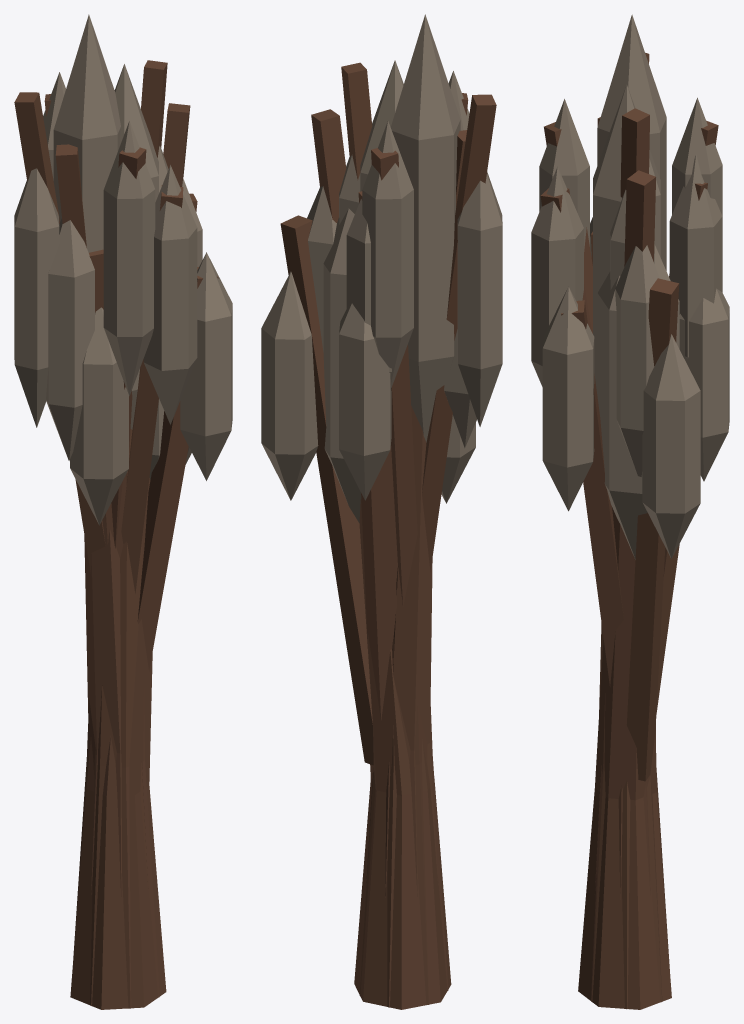
File: tree_poplar_winter.glb
The picture shows the model from 3 angles, left to right: view 1: azimuth 30°, elevation 25°; view 2: azimuth 150°, elevation 25°; view 3: azimuth 270°, elevation 25°; orthographic projection.
Parts seen in each view (by area): view 1: Poplar_upright_trunk.001, Poplar_bare_twigs_canopy.011, Poplar_bare_twigs_canopy.003, Poplar_upright_trunk, Poplar_bare_spire_twigs_canopy.002, Poplar_bare_twigs_canopy.010, Poplar_bare_twigs_canopy.002, Poplar_bare_twigs_canopy.006, Poplar_bare_twigs_canopy.007, Poplar_upright_trunk.002, Poplar_upswept_bough.007, Poplar_upswept_bough.003 (+9 smaller); view 2: Poplar_upright_trunk.001, Poplar_bare_spire_twigs_canopy.002, Poplar_upswept_bough.004, Poplar_bare_twigs_canopy.004, Poplar_bare_twigs_canopy.010, Poplar_bare_twigs_canopy.009, Poplar_upright_trunk.002, Poplar_bare_twigs_canopy.005, Poplar_upswept_bough.010, Poplar_upswept_bough.005, Poplar_upright_trunk, Poplar_upswept_bough.009 (+9 smaller); view 3: Poplar_upright_trunk.001, Poplar_bare_twigs_canopy.004, Poplar_bare_twigs_canopy.007, Poplar_upswept_bough.004, Poplar_bare_twigs_canopy, Poplar_bare_twigs_canopy.003, Poplar_bare_spire_twigs_canopy.001, Poplar_bare_twigs_canopy.001, Poplar_bare_twigs_canopy.005, Poplar_upswept_bough.007, Poplar_bare_spire_twigs_canopy.002, Poplar_bare_spire_twigs_canopy (+9 smaller).
Boxes of the visible parts, bbox=[...] form: Poplar_upright_trunk.001: bbox=[70, 478, 166, 1009]; Poplar_bare_twigs_canopy.011: bbox=[103, 120, 155, 396]; Poplar_bare_twigs_canopy.003: bbox=[143, 165, 197, 424]; Poplar_upright_trunk: bbox=[73, 429, 159, 1008]; Poplar_bare_spire_twigs_canopy.002: bbox=[53, 14, 120, 252]; Poplar_bare_twigs_canopy.010: bbox=[14, 168, 59, 427]; Poplar_bare_twigs_canopy.002: bbox=[46, 218, 94, 460]; Poplar_bare_twigs_canopy.006: bbox=[70, 307, 128, 525]; Poplar_bare_twigs_canopy.007: bbox=[180, 252, 232, 480]; Poplar_upright_trunk.002: bbox=[84, 515, 148, 896]; Poplar_upswept_bough.007: bbox=[137, 267, 218, 671]; Poplar_upswept_bough.003: bbox=[121, 185, 183, 593]; Poplar_upright_trunk.001: bbox=[354, 499, 451, 1009]; Poplar_bare_spire_twigs_canopy.002: bbox=[390, 14, 460, 442]; Poplar_upswept_bough.004: bbox=[280, 215, 373, 765]; Poplar_bare_twigs_canopy.004: bbox=[261, 271, 318, 500]; Poplar_bare_twigs_canopy.010: bbox=[457, 172, 502, 426]; Poplar_bare_twigs_canopy.009: bbox=[362, 121, 413, 389]; Poplar_upright_trunk.002: bbox=[366, 406, 438, 897]; Poplar_bare_twigs_canopy.005: bbox=[339, 303, 391, 500]; Poplar_upswept_bough.010: bbox=[422, 94, 496, 571]; Poplar_upswept_bough.005: bbox=[361, 451, 397, 720]; Poplar_upright_trunk: bbox=[359, 640, 448, 1007]; Poplar_upswept_bough.009: bbox=[371, 148, 417, 606]; Poplar_upright_trunk.001: bbox=[578, 507, 671, 1009]; Poplar_bare_twigs_canopy.004: bbox=[642, 334, 700, 558]; Poplar_bare_twigs_canopy.007: bbox=[542, 286, 594, 511]; Poplar_upswept_bough.004: bbox=[626, 278, 679, 781]; Poplar_bare_twigs_canopy: bbox=[615, 245, 659, 476]; Poplar_bare_twigs_canopy.003: bbox=[531, 167, 583, 386]; Poplar_bare_spire_twigs_canopy.001: bbox=[597, 244, 679, 559]; Poplar_bare_twigs_canopy.001: bbox=[669, 155, 722, 359]; Poplar_bare_twigs_canopy.005: bbox=[679, 288, 729, 481]; Poplar_upswept_bough.007: bbox=[561, 300, 623, 686]; Poplar_bare_spire_twigs_canopy.002: bbox=[597, 14, 666, 270]; Poplar_bare_spire_twigs_canopy: bbox=[593, 84, 660, 395].
Size of the model in its own units: 0.8529 by 3.76 by 0.7026.
